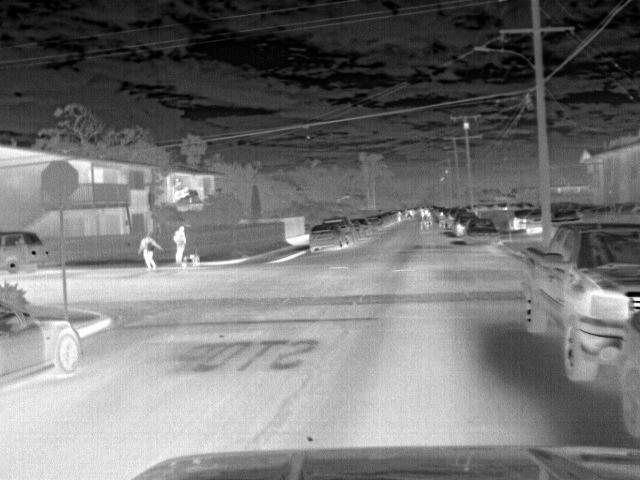car: (524, 219, 639, 386), (1, 311, 80, 391), (608, 290, 640, 444), (3, 228, 52, 274), (465, 220, 500, 248), (307, 225, 343, 252), (321, 216, 353, 246), (452, 214, 478, 236), (526, 207, 544, 234), (350, 218, 374, 236), (511, 209, 529, 231), (365, 218, 384, 232), (351, 222, 366, 238)
dog: (183, 252, 202, 267)
person: (136, 232, 162, 272), (171, 222, 190, 269), (417, 208, 432, 233)
